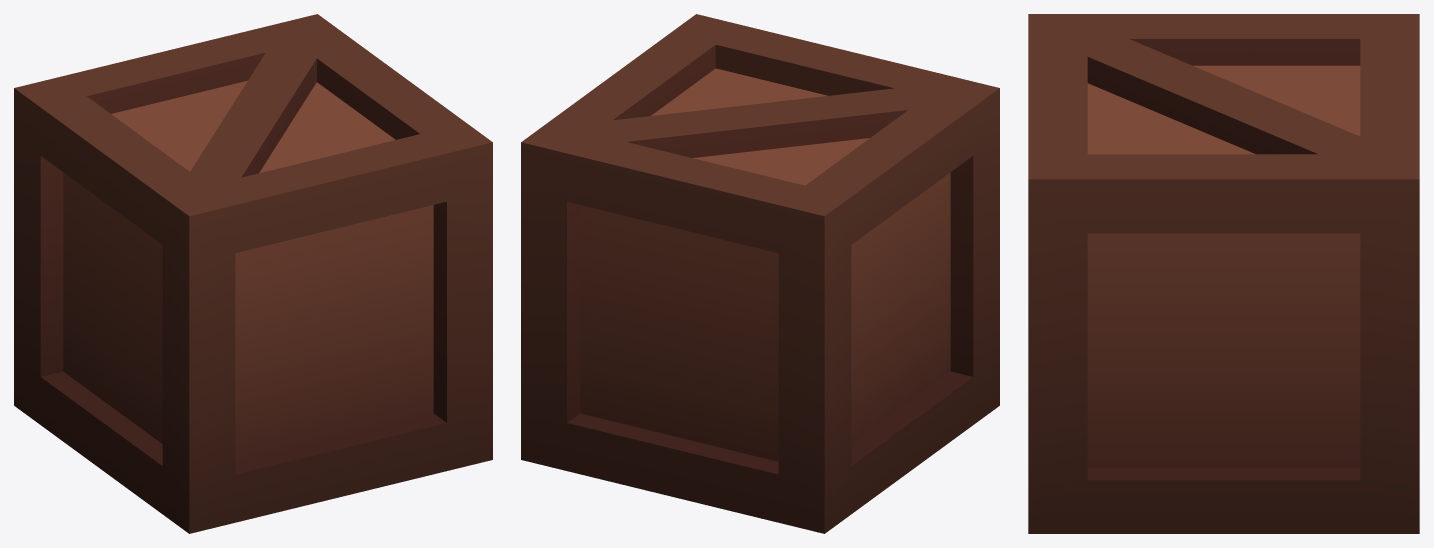
Rendered from farmpack2023cratesmall.fbx.
3 views of the same model, side by side, from view 1: azimuth 30°, elevation 25°; view 2: azimuth 150°, elevation 25°; view 3: azimuth 270°, elevation 25° (orthographic). The views are drawn at different scales.
Visible parts, largest first — view 1: farmpack2023cratesmall; view 2: farmpack2023cratesmall; view 3: farmpack2023cratesmall.
Boxes of the visible parts, x1,y1,x2,y2 form: farmpack2023cratesmall: [14, 14, 492, 533]; farmpack2023cratesmall: [521, 14, 999, 533]; farmpack2023cratesmall: [1028, 14, 1419, 533].
Bounding box in the file's own units: 1.08 × 1.08 × 1.08.
